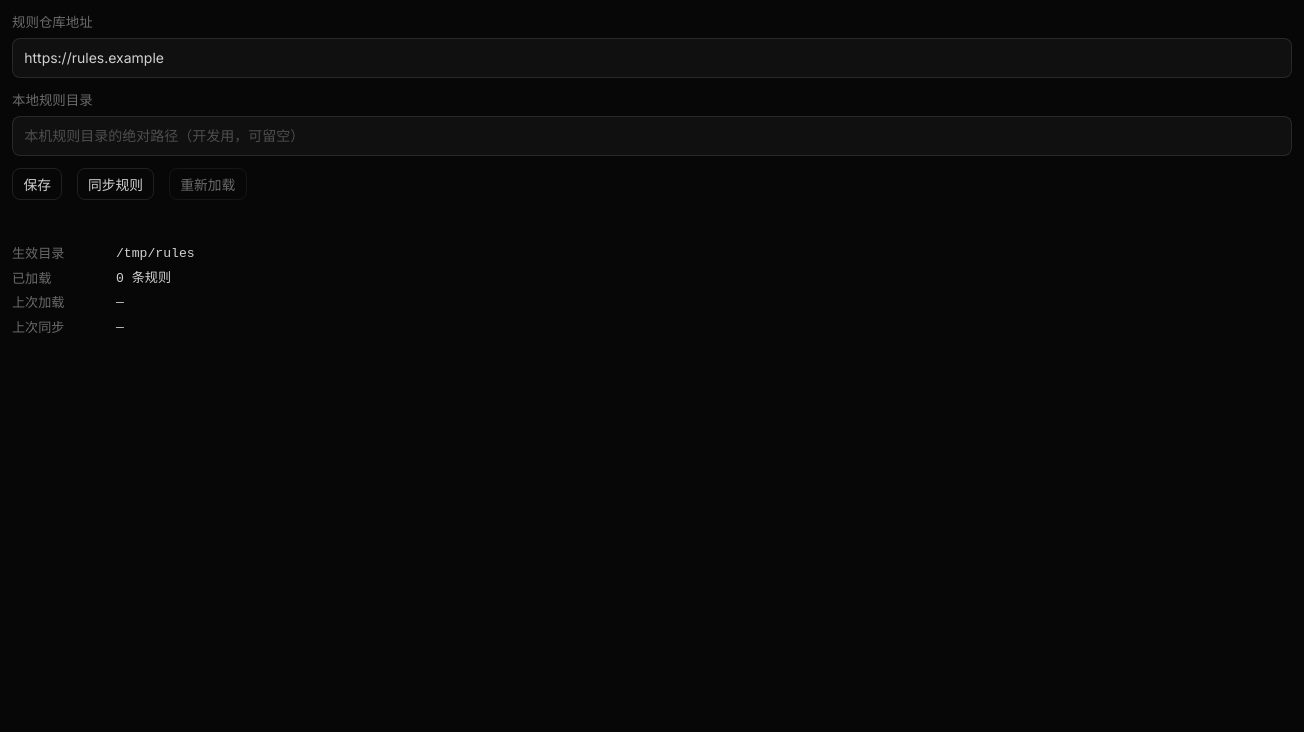
RulesConfigForm › 未配置远端时「同步规则」禁用；同步结果与规则级错误都要展示
Click the button "同步规则": (116, 184) left=77, top=168, right=154, bottom=200
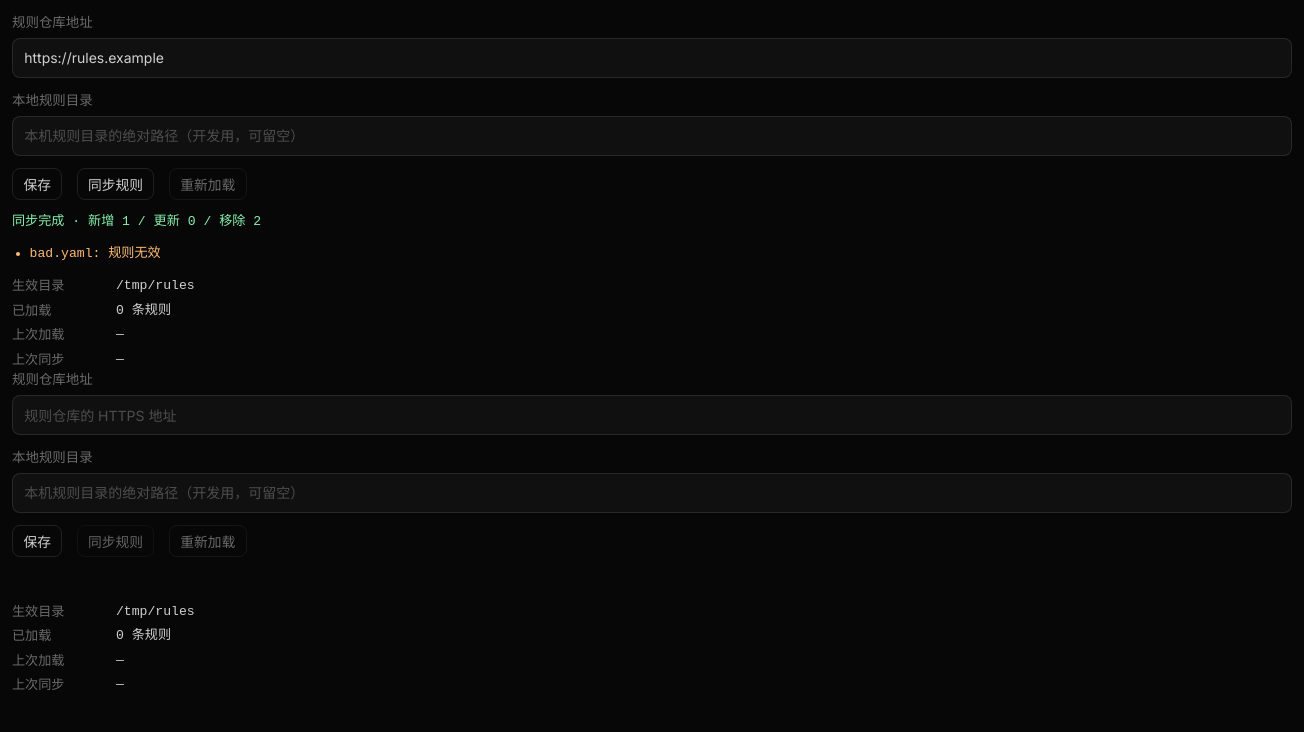
Expected: the message "同步完成 · 新增 1 / 更新 0 / 移除 2" is shown, left=12, top=214, right=261, bottom=228
Expected: the message "bad.yaml: 规则无效" is shown, left=30, top=246, right=161, bottom=262
Expected: the 2nd button "同步规则" is disabled, left=77, top=525, right=154, bottom=557
